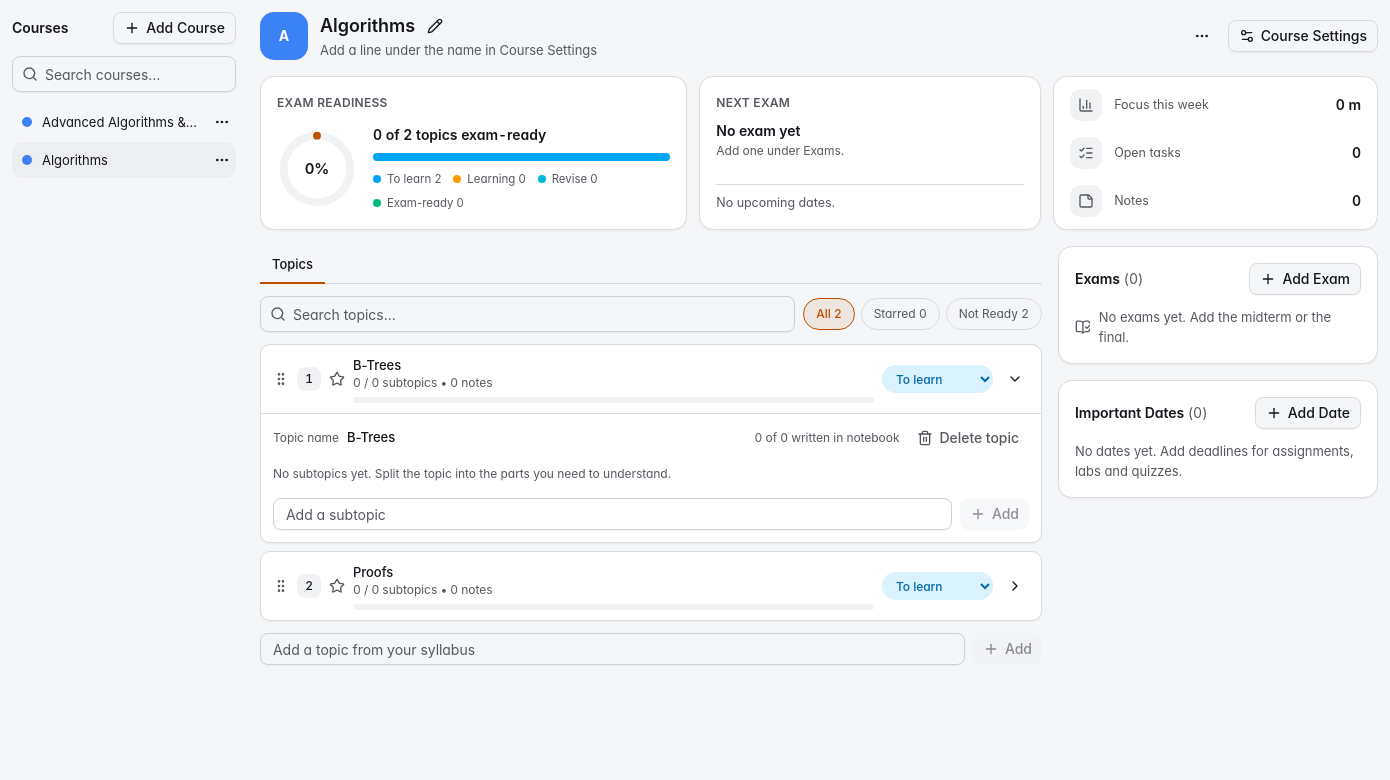
Test: the Course page › adds topics, subtopics and short notes, and marks a note as written
Earlier steps of the test are not shown.
Expected: the text "No subtopics yet" is shown, top-left (273, 466), bottom-right (671, 481)
Type "Insert" into the field named "New subtopic for B-Trees".
click(612, 514); type("Insert")  # box top-left (273, 498), bottom-right (952, 530)
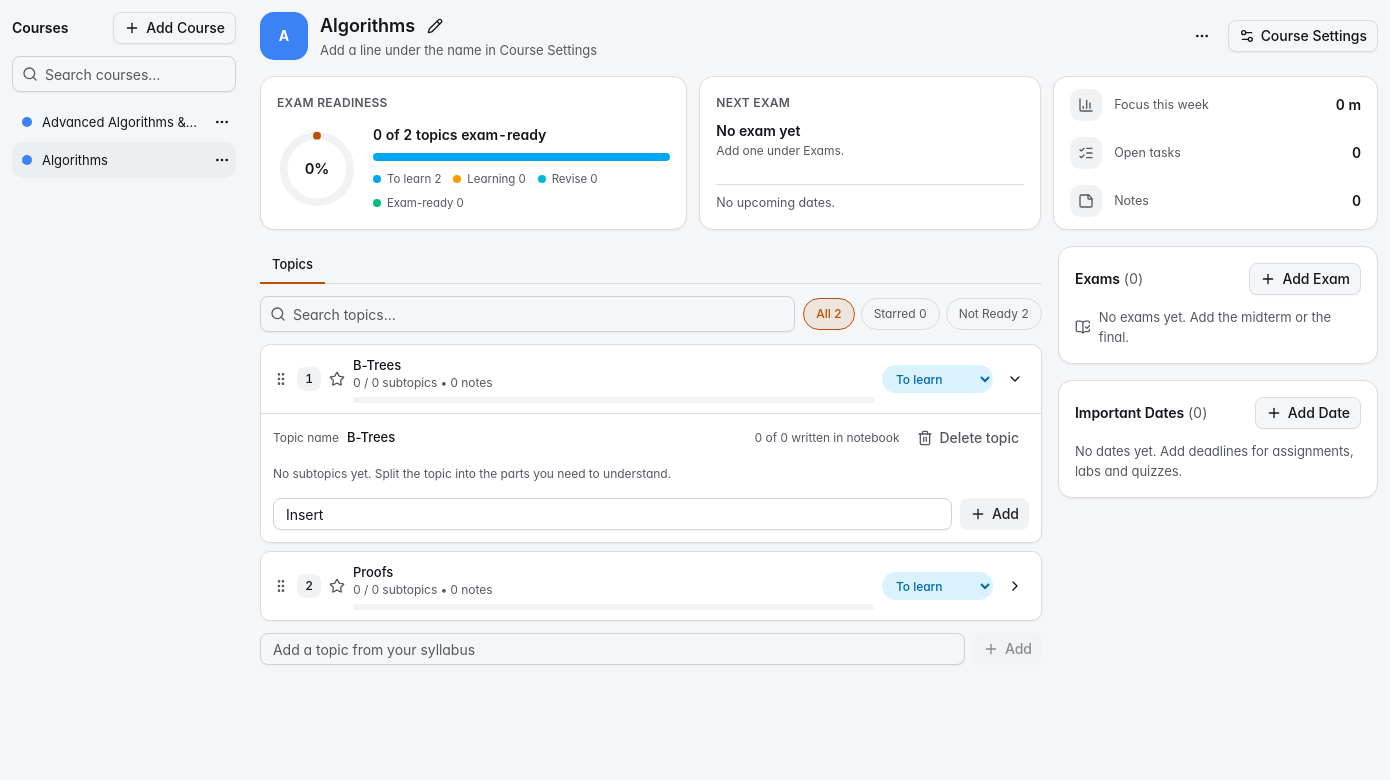
Submit the form named "New subtopic for B-Trees", box top-left (273, 498), bottom-right (1029, 530)
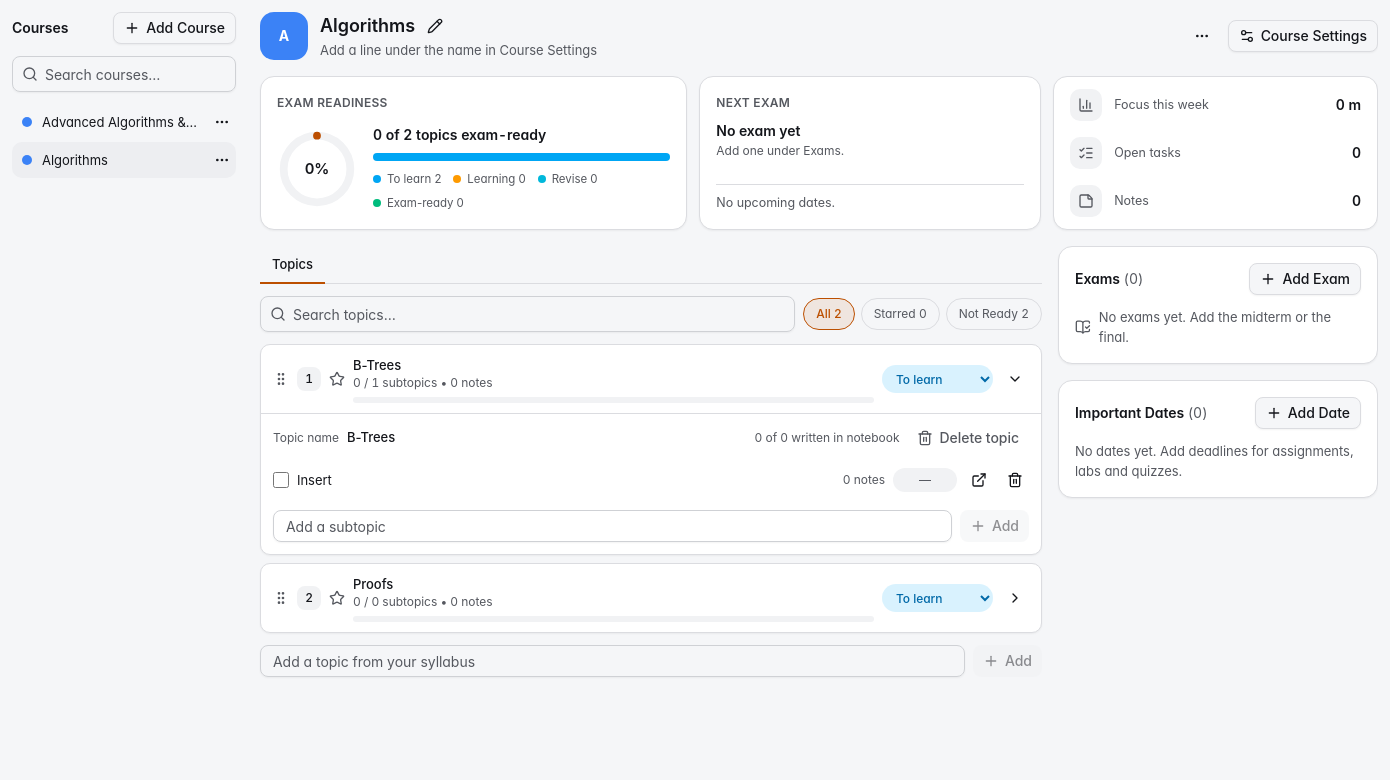
Click the button named "Open short notes of Insert".
click(979, 480)  # box top-left (965, 466), bottom-right (993, 494)
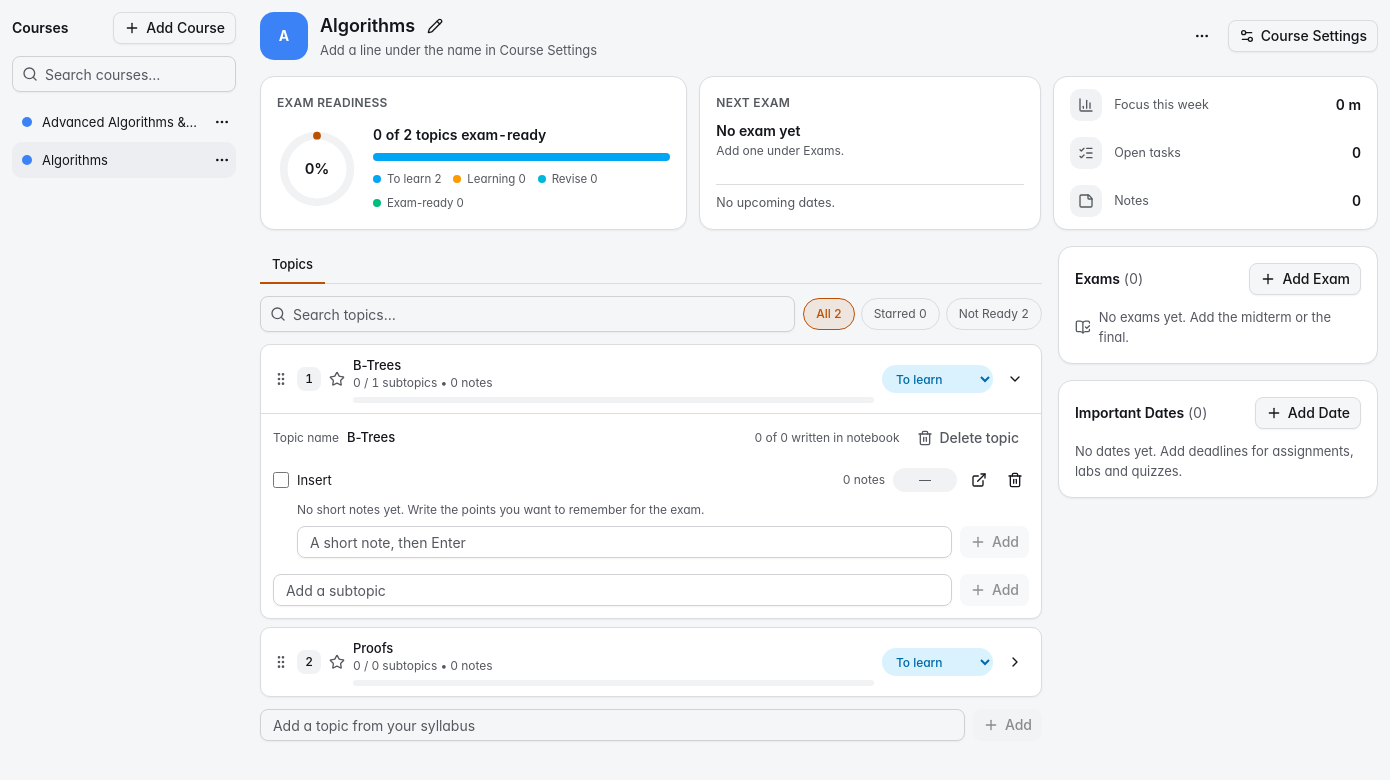
Type "Split the node when full" into the field named "New short note for Insert".
click(624, 542); type("Split the node when full")  # box top-left (297, 526), bottom-right (952, 558)
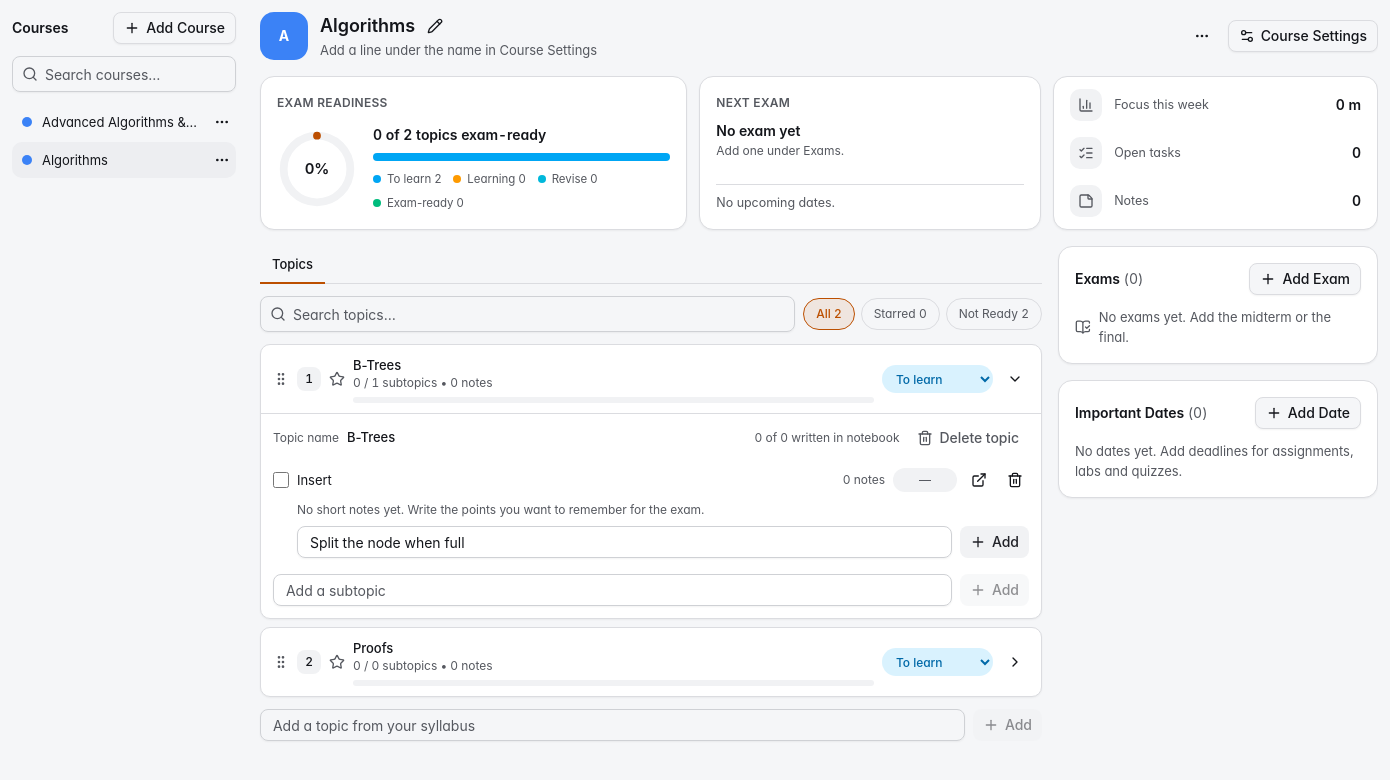
Submit the form named "New short note for Insert", box top-left (297, 526), bottom-right (1029, 558)
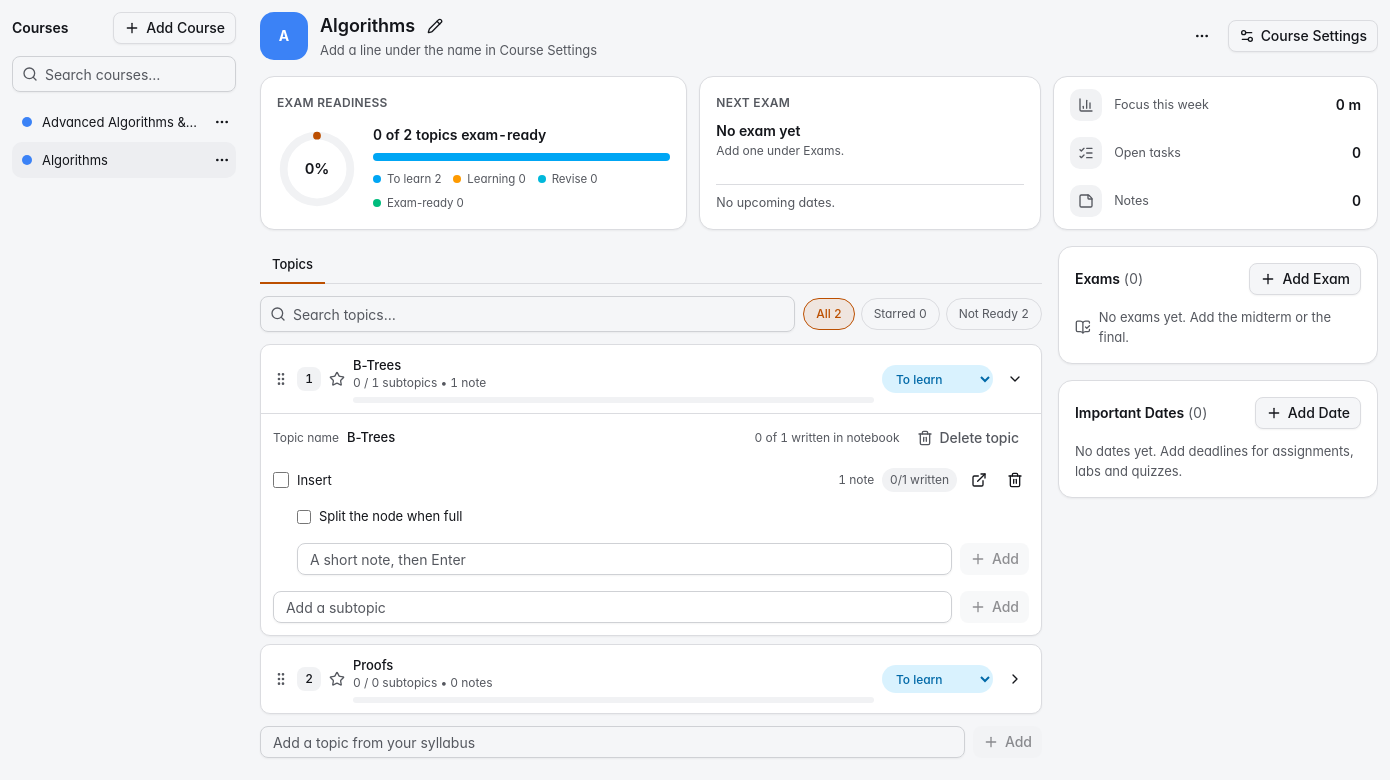
Expected: the button "Split the node when full" is shown, top-left (319, 506), bottom-right (997, 526)
Expected: the text "0/1 written" is shown, top-left (882, 468), bottom-right (957, 492)
Click the checkbox named "Written in notebook".
click(304, 517)  # box top-left (297, 510), bottom-right (311, 524)
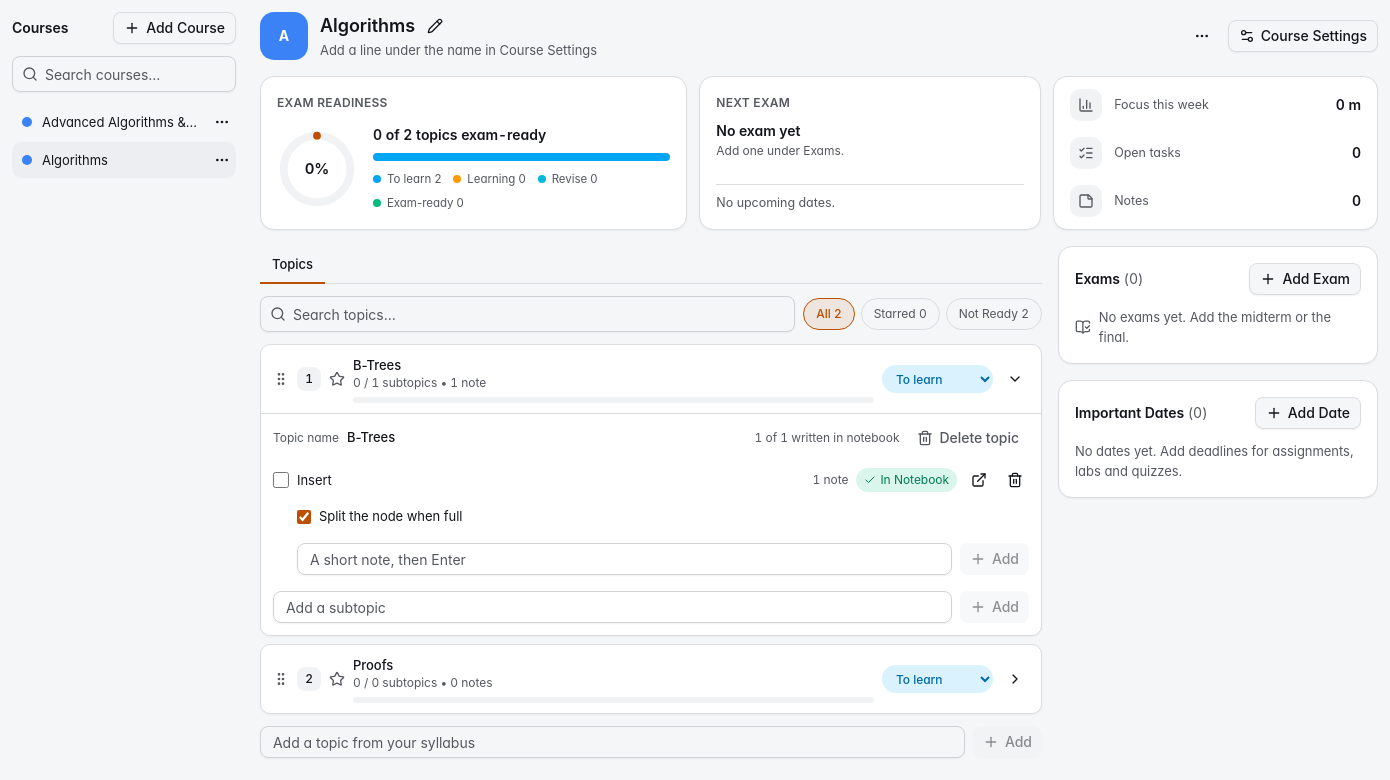
Expected: the text "In Notebook" is shown, top-left (856, 468), bottom-right (957, 492)
